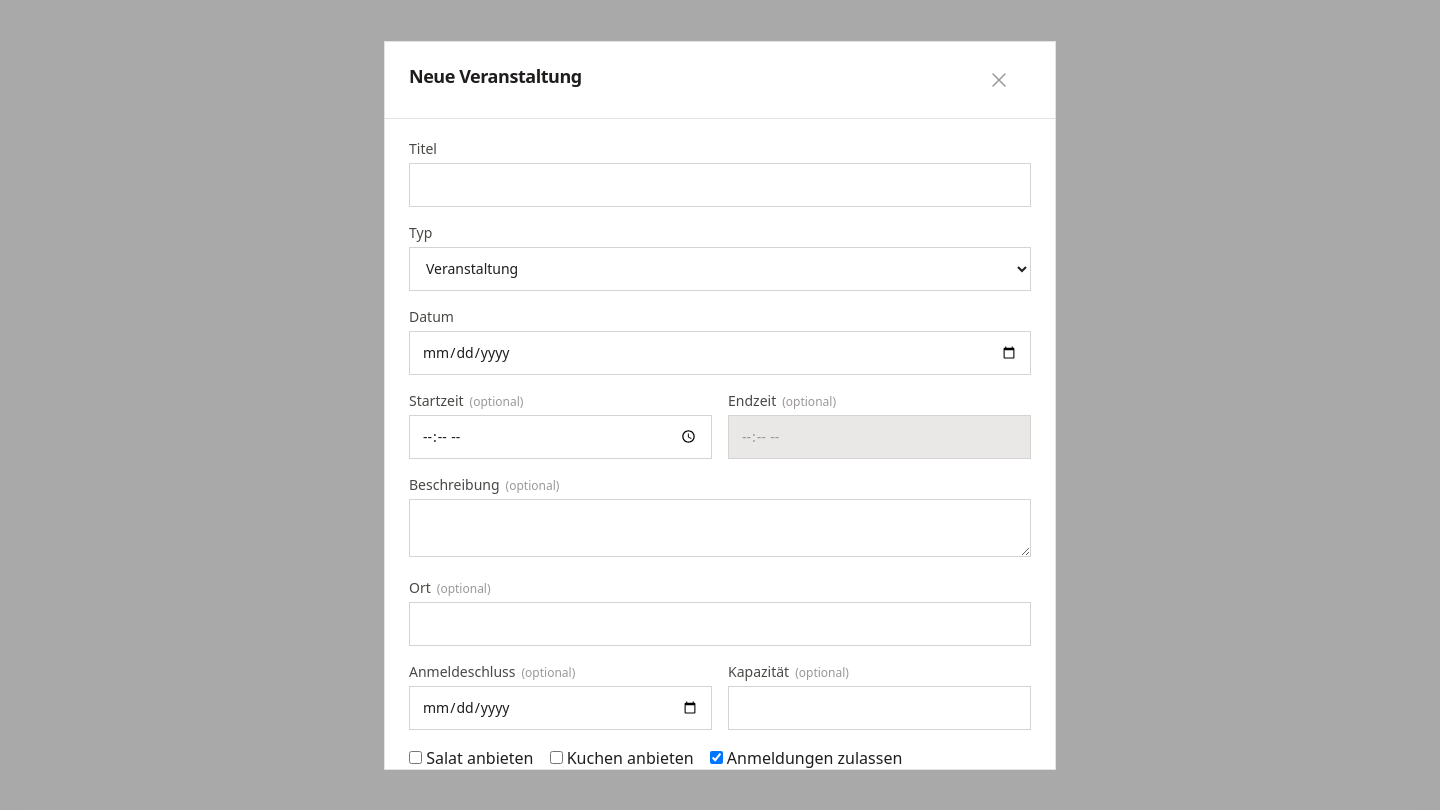
it: EventFormModal › disables end time until a start time is set, and clears end time when start time is removed
Expected: the time field labelled "Endzeit(optional)" is disabled, [728, 414, 1031, 458]
Type "18:00" into the time field labelled "Startzeit(optional)".
click(560, 436); type("18:00")  # box [409, 414, 712, 458]
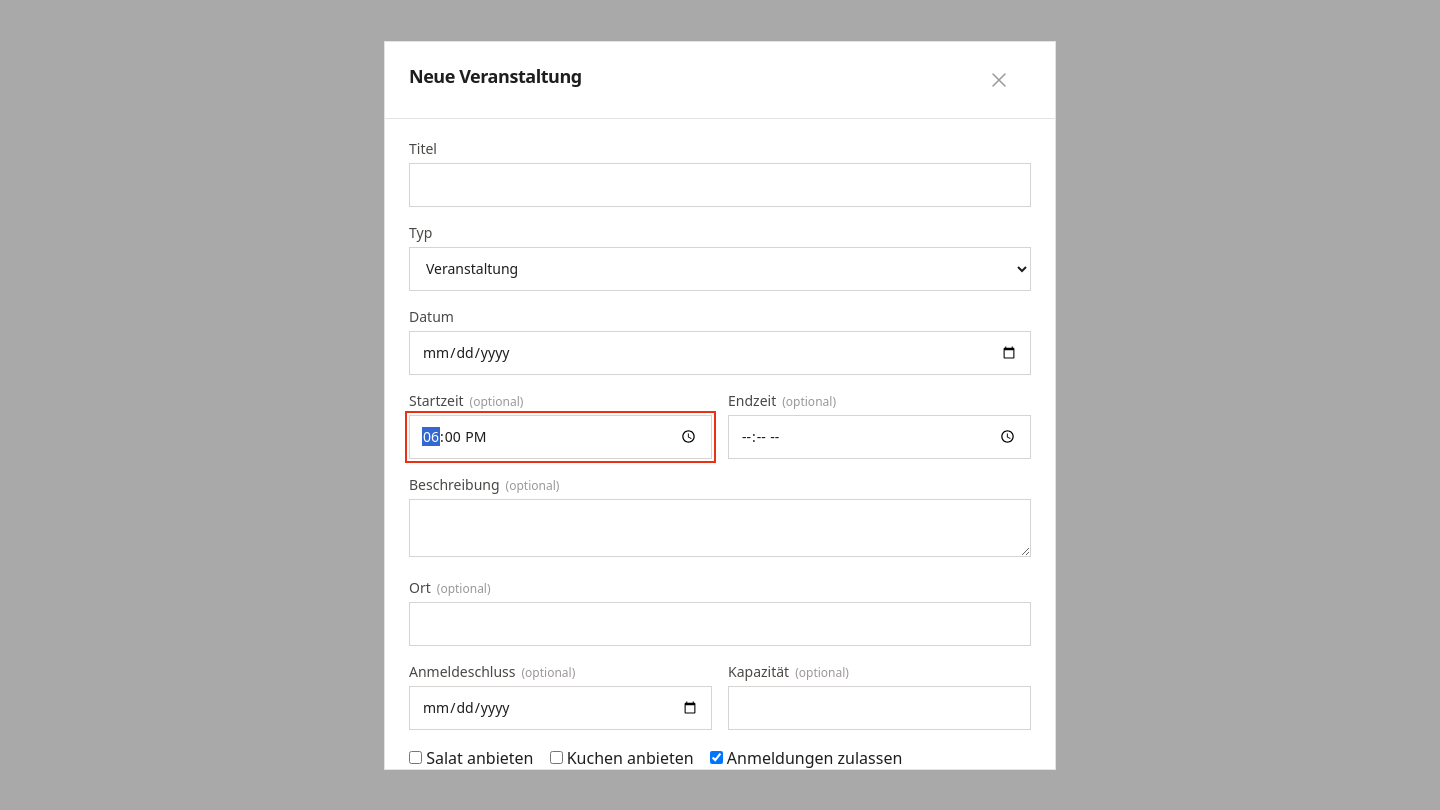
Now the time field labelled "Endzeit(optional)" is enabled
Type "22:00" into the time field labelled "Endzeit(optional)".
click(880, 436); type("22:00")  # box [728, 414, 1031, 458]
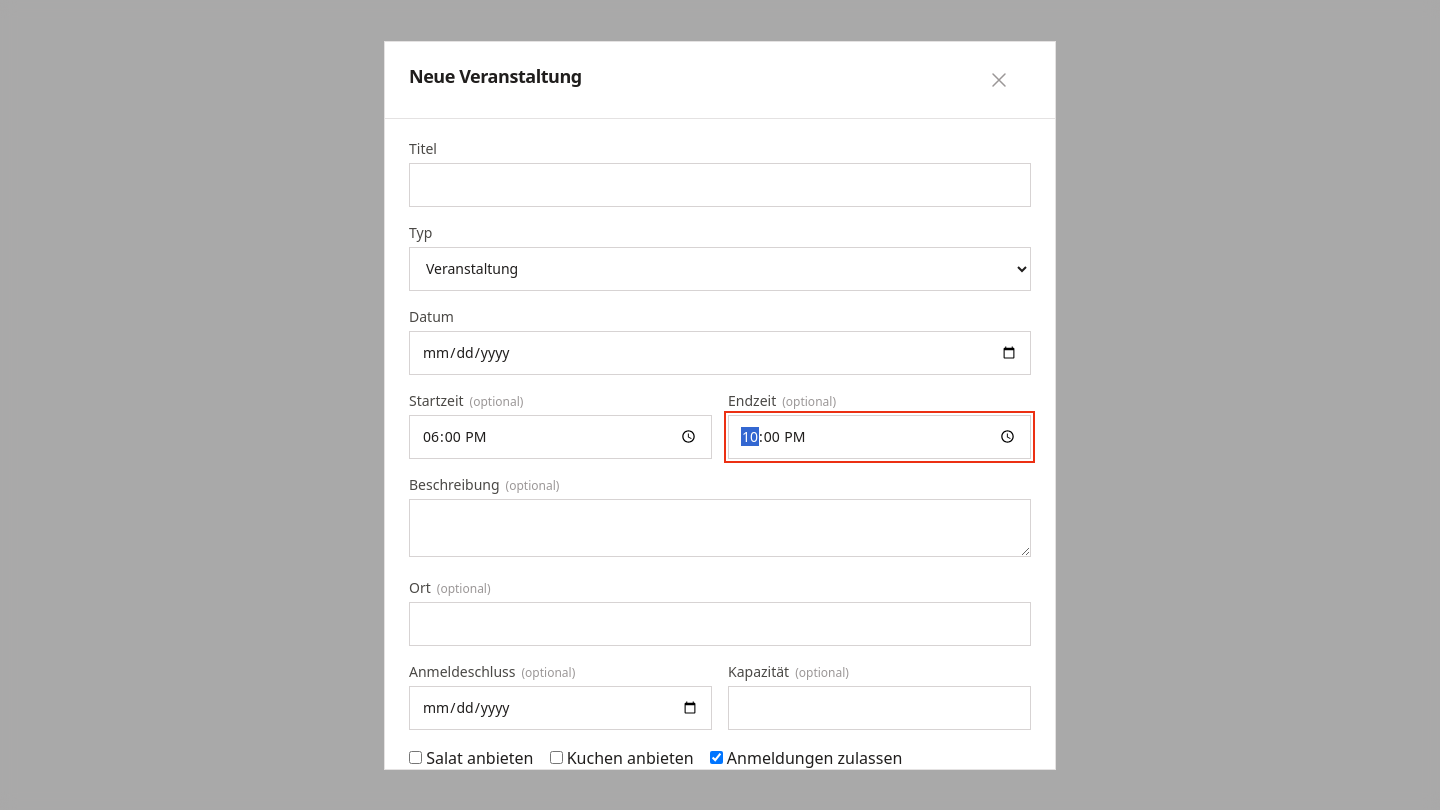
Clear the time field labelled "Startzeit(optional)" at x=560, y=436, box [409, 414, 712, 458]
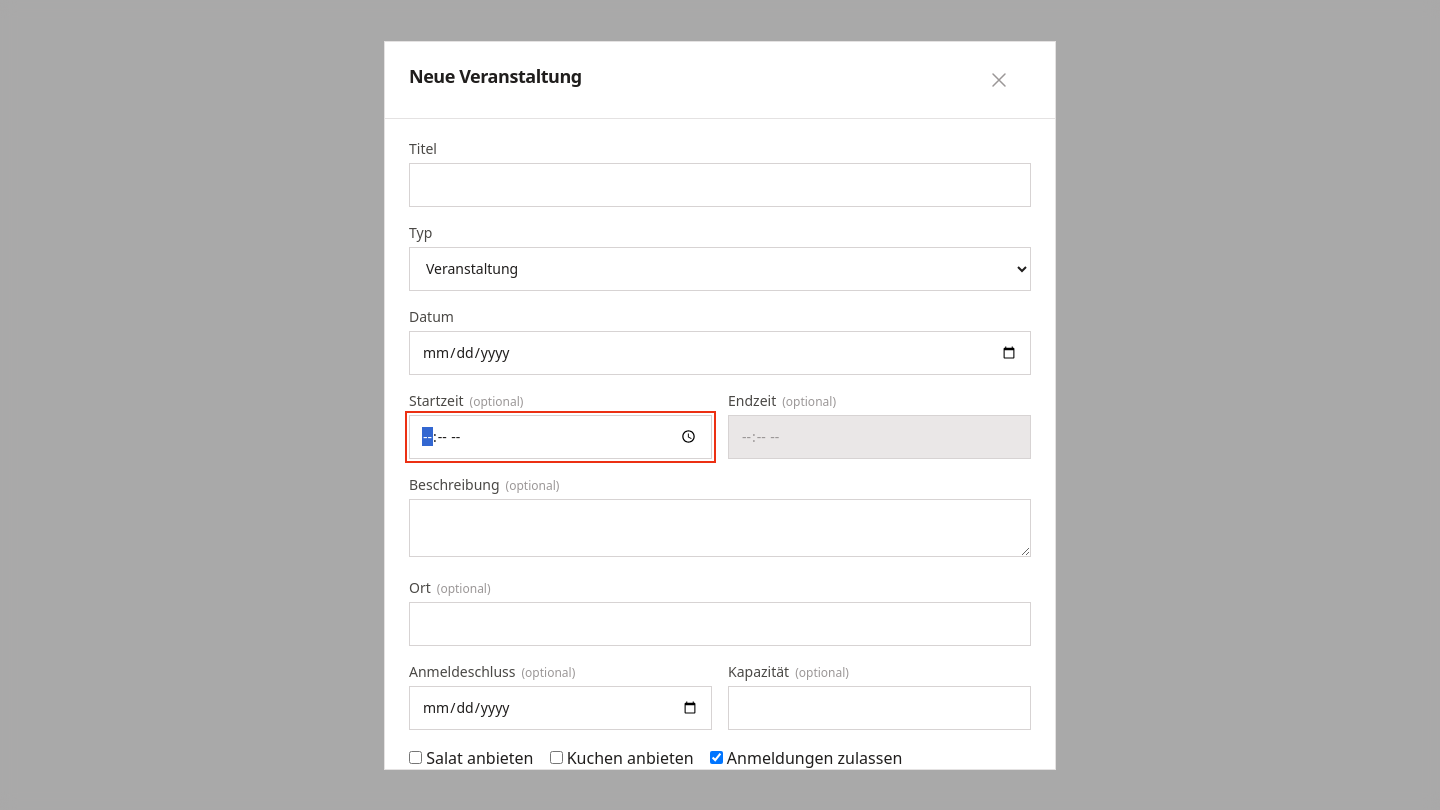
Now the time field labelled "Endzeit(optional)" is disabled, box [728, 414, 1031, 458]
Now the time field labelled "Endzeit(optional)" is empty, box [728, 414, 1031, 458]
